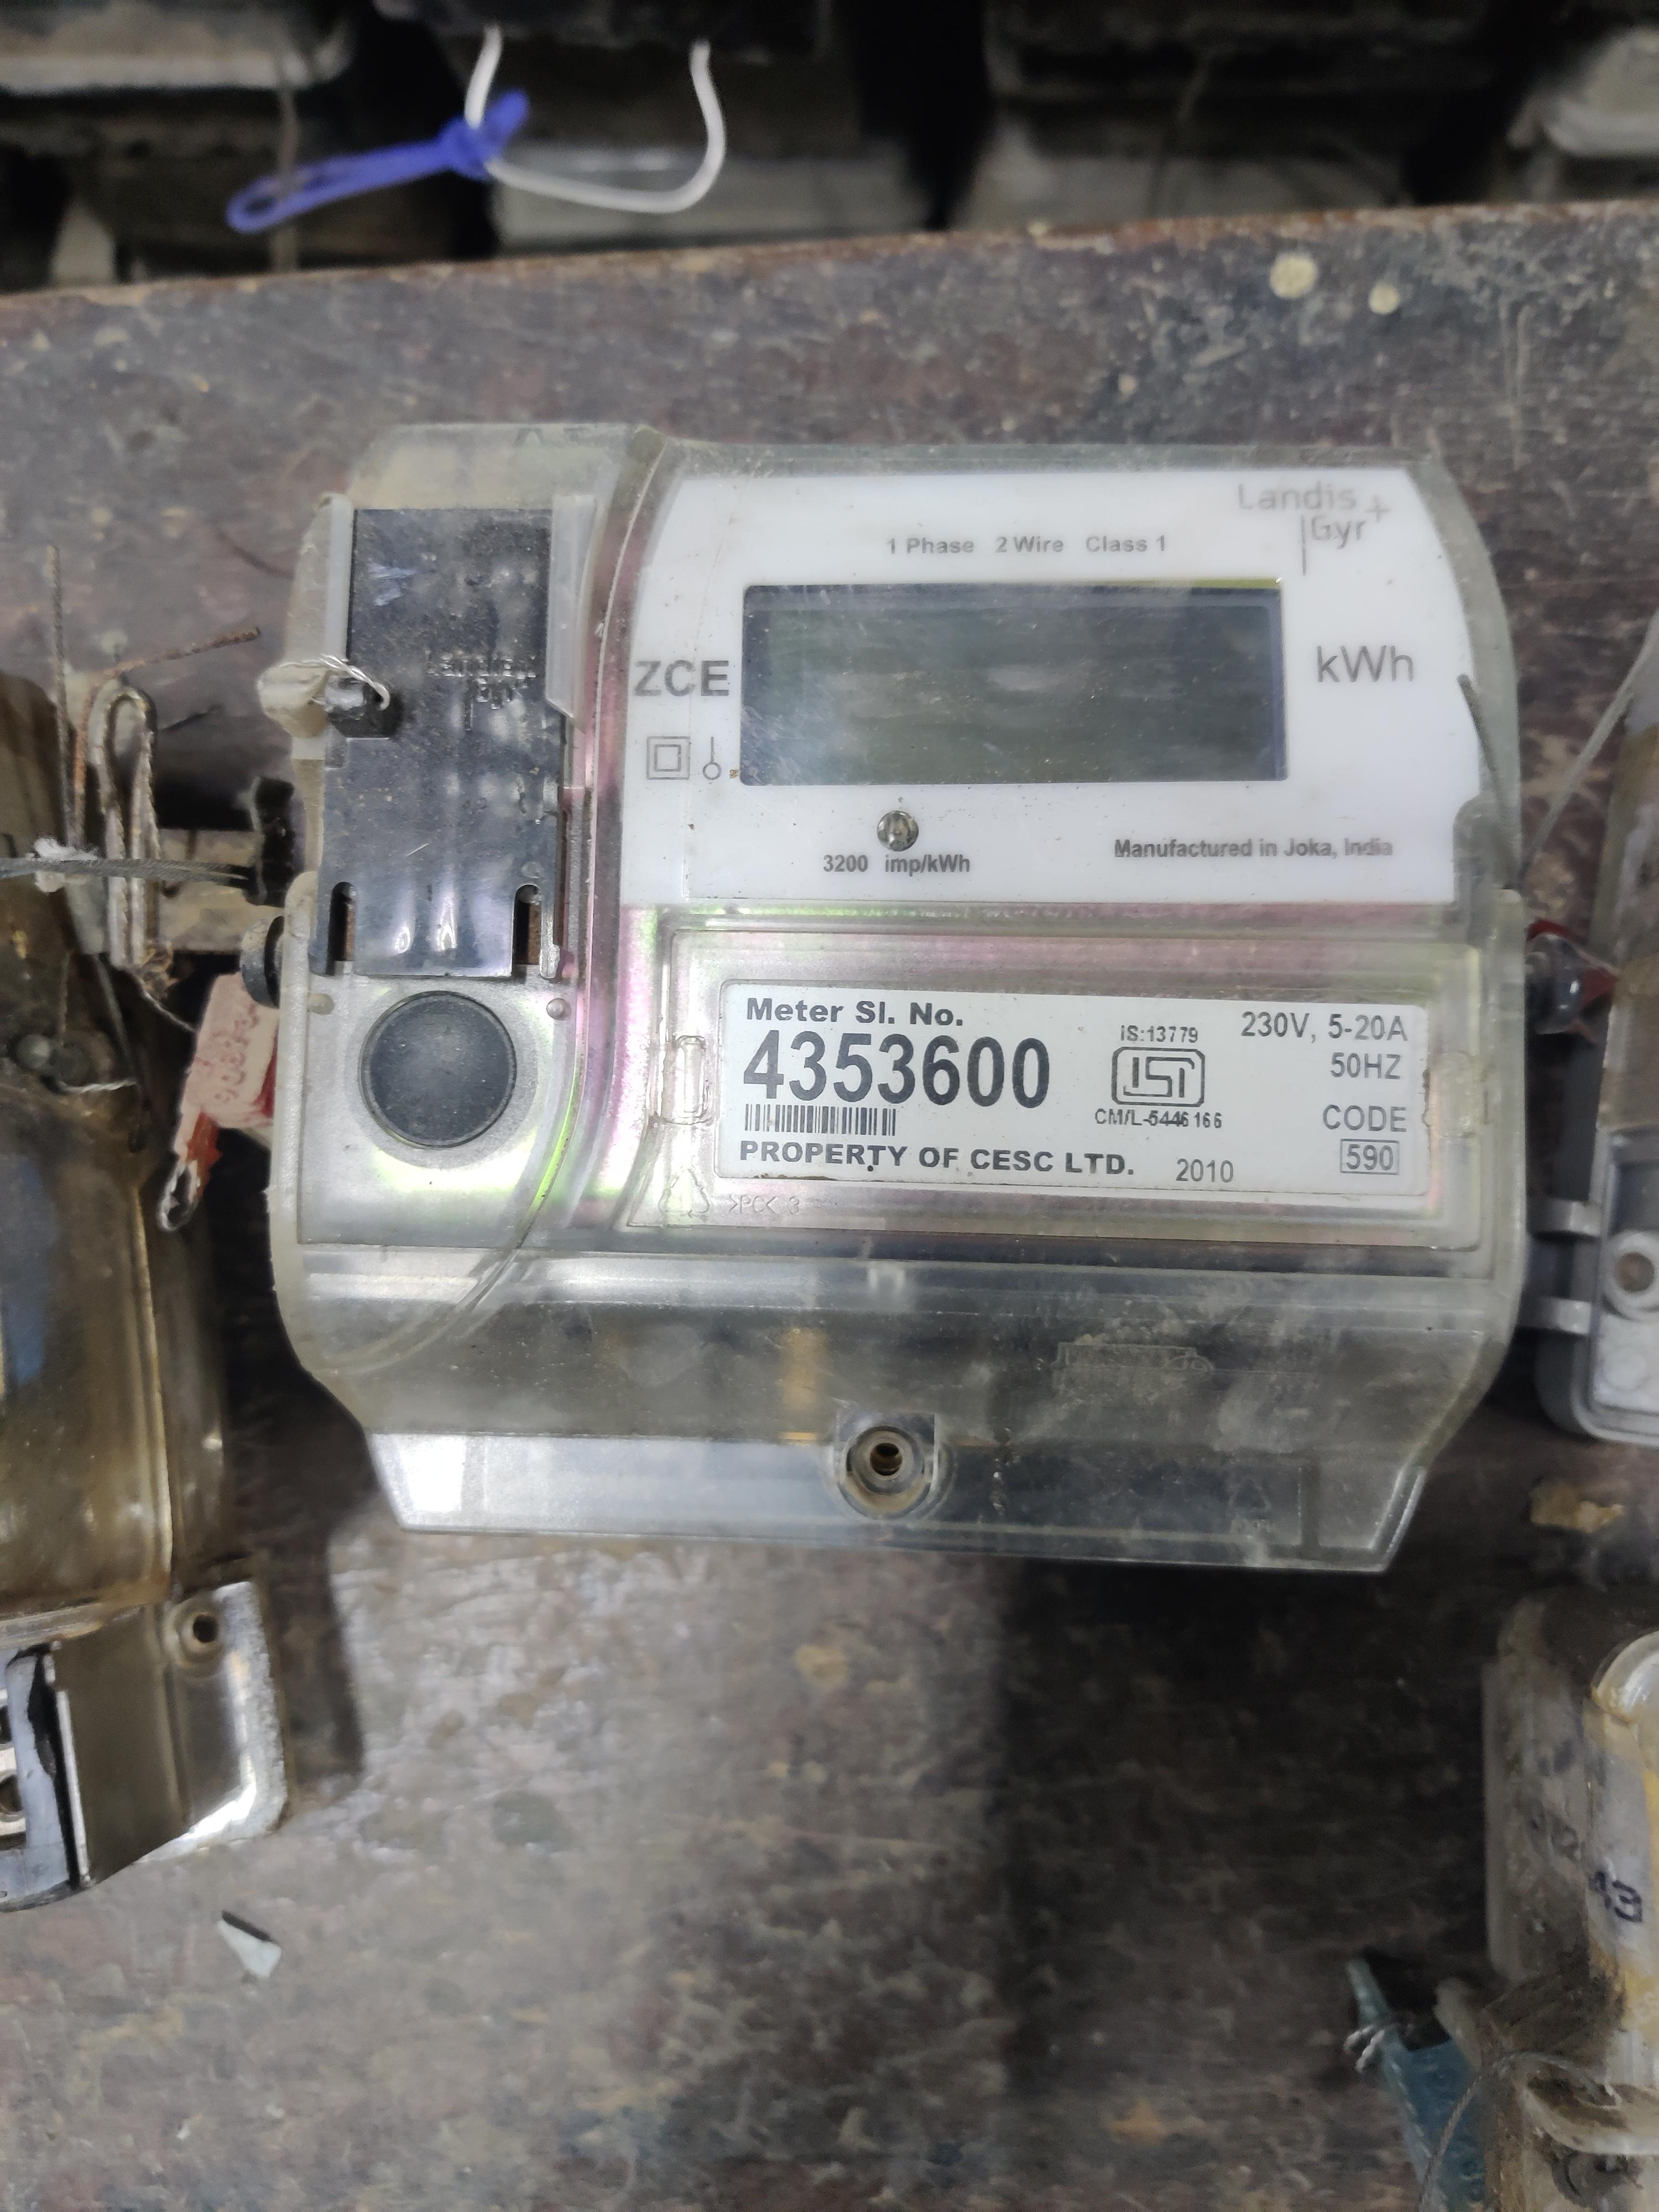meter_readings: (751, 589, 1281, 779)
serial_number: (735, 1028, 1060, 1108)
